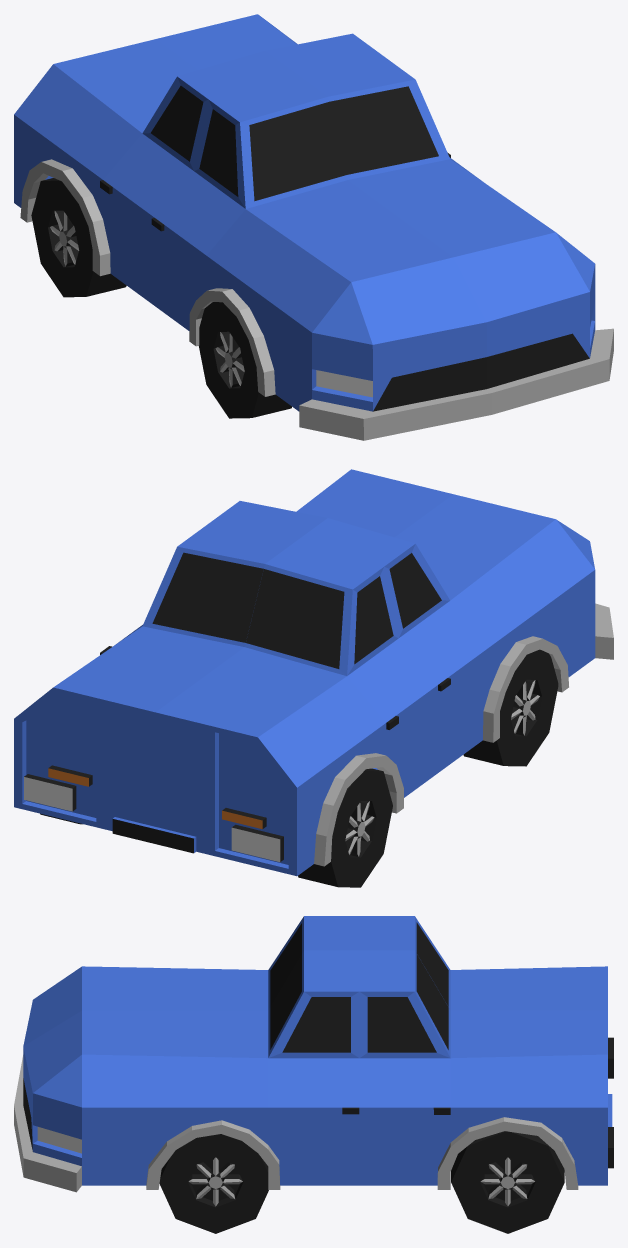
Rendered from carModel2.fbx.
3 views of the same model, one above another, from view 1: azimuth 30°, elevation 25°; view 2: azimuth 150°, elevation 25°; view 3: azimuth 270°, elevation 25° (orthographic). The views are drawn at different scales.
Parts seen in each view (by area): view 1: Car2, Wheels.002, Wheels.003; view 2: Car2, Wheels.002, Wheels.003; view 3: Car2, Wheels.002, Wheels.003.
Part boxes in pixels (x1,y1,x2,y2): Car2: (14,14,613,440); Wheels.002: (31,178,126,297); Wheels.003: (199,302,291,418); Car2: (14,469,613,876); Wheels.002: (40,768,392,887); Wheels.003: (463,649,558,766); Car2: (14,916,613,1192); Wheels.002: (451,1131,564,1233); Wheels.003: (159,1134,268,1233).
Size of the model in its own units: 494 by 373 by 924.
